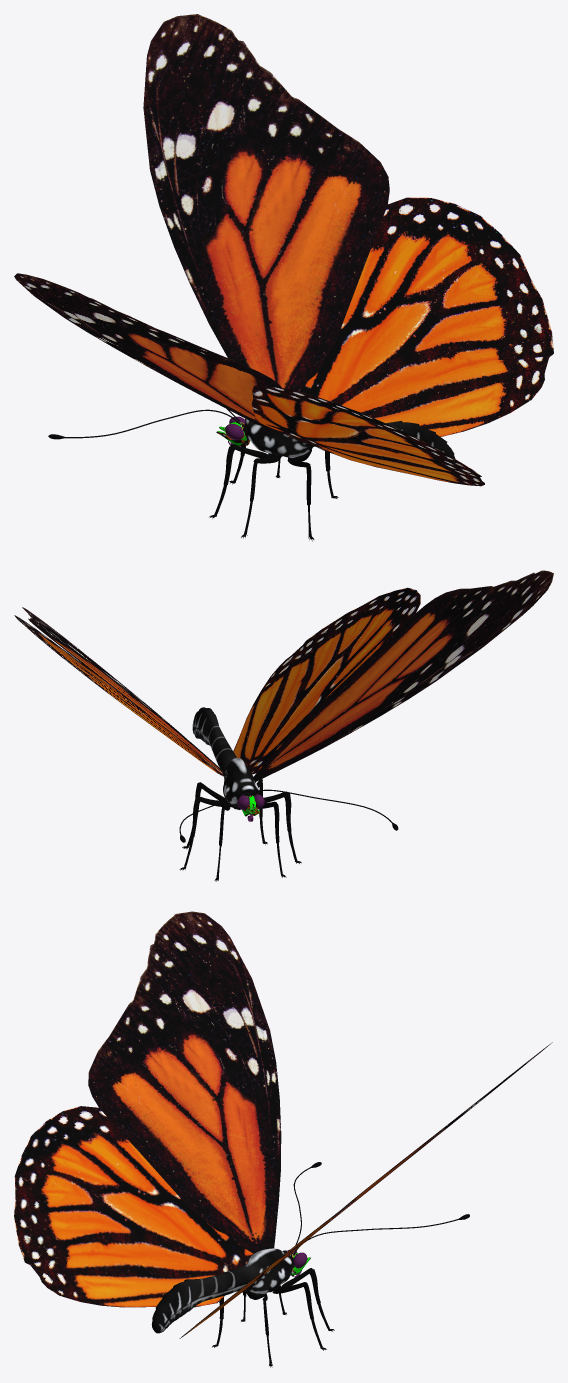
Rendered from butterfly.fbx.
3 views of the same model, one above another, from view 1: azimuth 30°, elevation 25°; view 2: azimuth 150°, elevation 25°; view 3: azimuth 270°, elevation 25° (orthographic). The views are drawn at different scales.
Parts seen in each view (by area): view 1: BUTT74, BUTT75, BUTT77, BUTT76, BUTTMAIN02; view 2: BUTT77, BUTT76, BUTTMAIN02, BUTT74, BUTT75; view 3: BUTT77, BUTT76, BUTTMAIN02, BUTT74, BUTT75.
Boxes of the visible parts, bbox=[...] form: BUTT74: bbox=[143, 14, 389, 391]; BUTT75: bbox=[300, 197, 553, 436]; BUTT77: bbox=[14, 273, 281, 427]; BUTT76: bbox=[251, 385, 484, 486]; BUTTMAIN02: bbox=[244, 419, 455, 458]; BUTT77: bbox=[253, 570, 553, 783]; BUTT76: bbox=[233, 587, 420, 774]; BUTTMAIN02: bbox=[192, 707, 259, 807]; BUTT74: bbox=[22, 607, 235, 782]; BUTT75: bbox=[14, 615, 225, 776]; BUTT77: bbox=[88, 911, 281, 1253]; BUTT76: bbox=[14, 1106, 253, 1307]; BUTTMAIN02: bbox=[151, 1248, 294, 1333]; BUTT74: bbox=[322, 1042, 552, 1227]; BUTT75: bbox=[179, 1199, 355, 1338].
Size of the model in its own units: 18.76 by 12.37 by 18.36.
